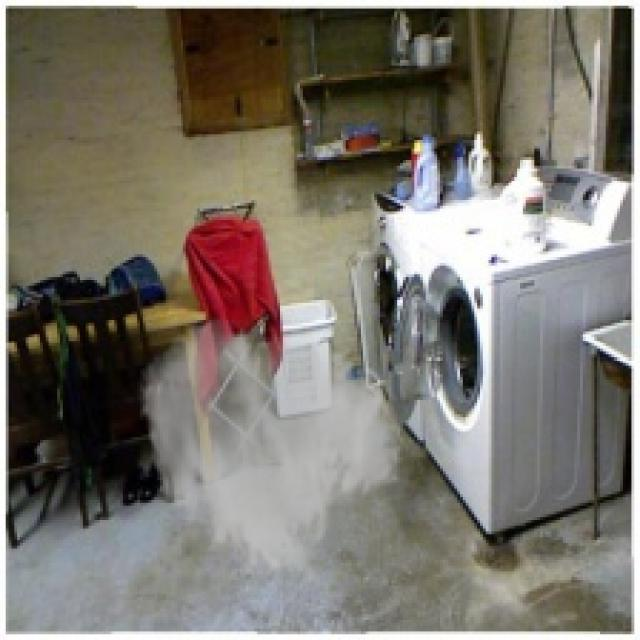Smoke: (137, 314, 406, 592)
